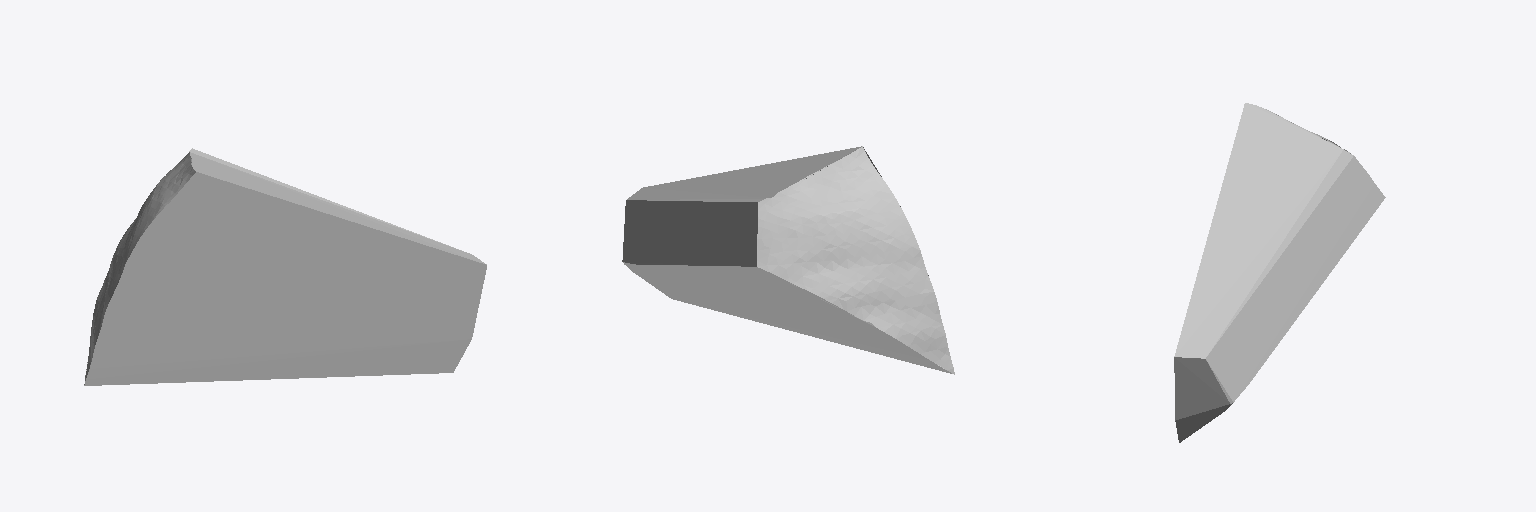
The model's file is low_cell_053.obj.
3 views of the same model, side by side, from view 1: azimuth 30°, elevation 25°; view 2: azimuth 150°, elevation 25°; view 3: azimuth 270°, elevation 25° (orthographic).
Parts seen in each view (by area): view 1: low_cell.053_low_cell.052; view 2: low_cell.053_low_cell.052; view 3: low_cell.053_low_cell.052.
Boxes of the visible parts, <box> form: low_cell.053_low_cell.052: <box>84,148,486,385</box>; low_cell.053_low_cell.052: <box>622,146,954,374</box>; low_cell.053_low_cell.052: <box>1174,103,1385,442</box>.
Size of the model in its own units: 0.7335 by 0.4527 by 0.3745.